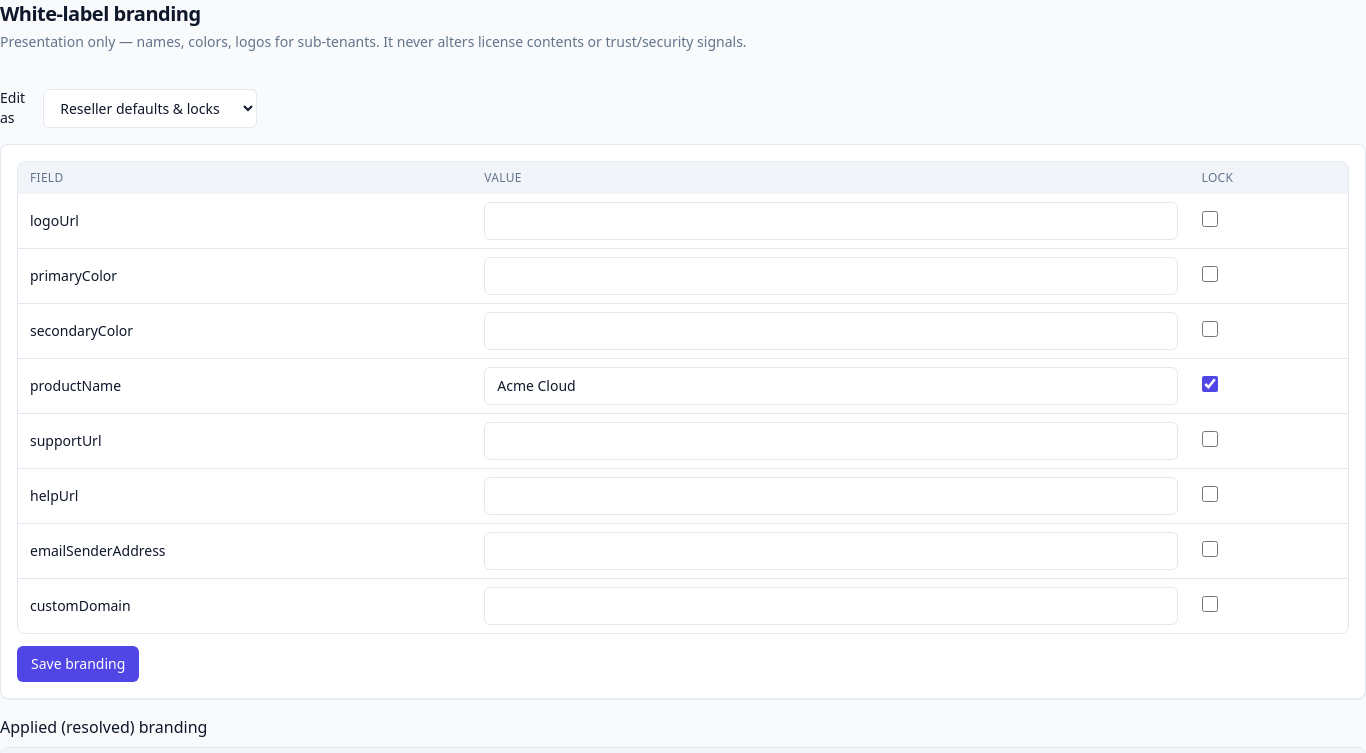
Test: Branding (US2) › refuses a provider-locked override with 409 field_locked in self mode
Select "My branding" in the dropdown named "Branding mode" at (150, 108), box [43,88,257,128]
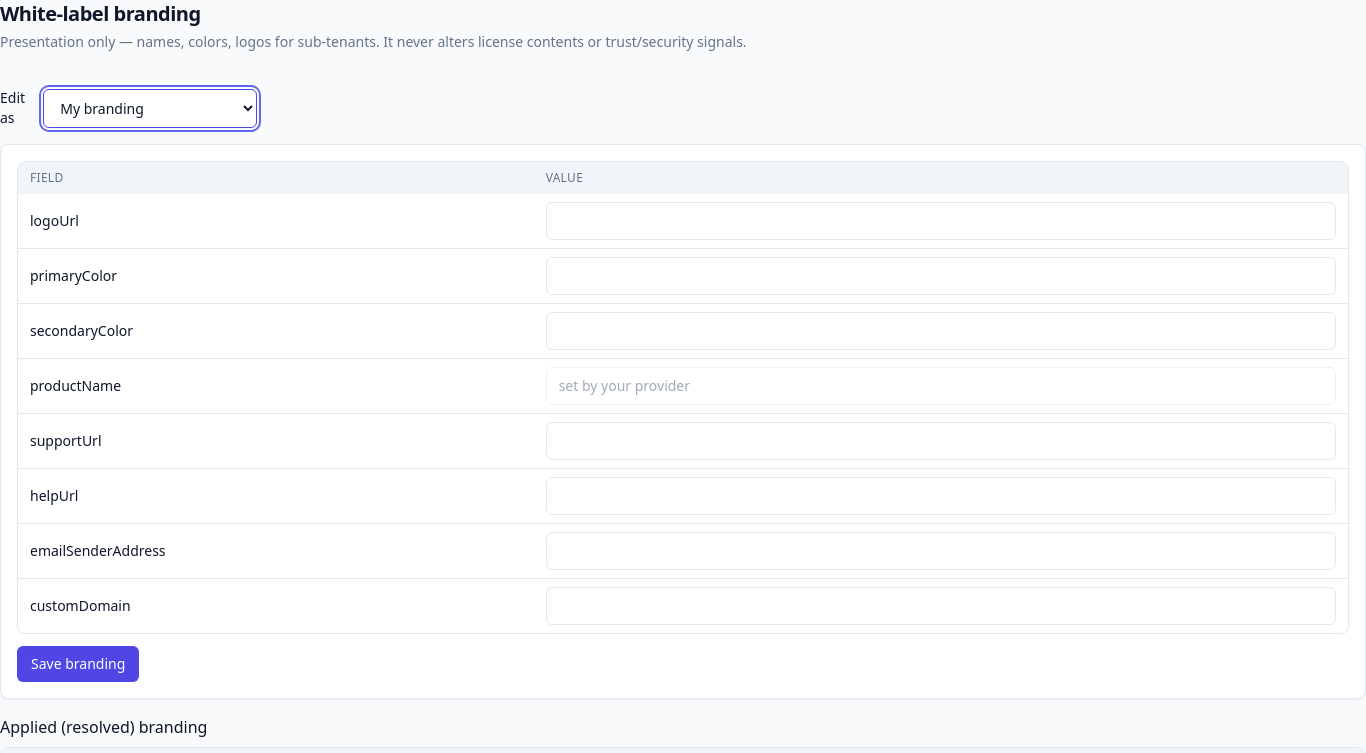
Click the button "Save branding" at (78, 664), box [17,646,139,682]
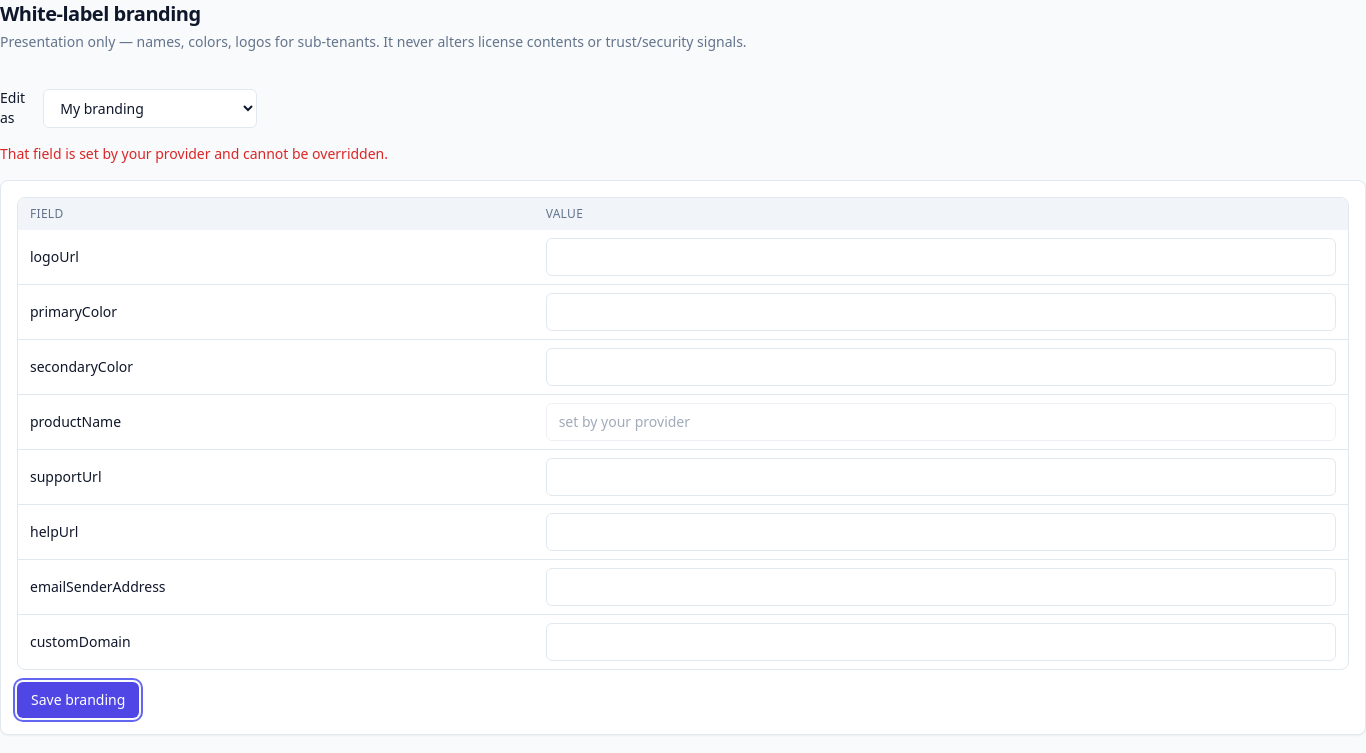
Expected: the message shows "set by your provider and cannot be overridden", [0,144,388,163]
